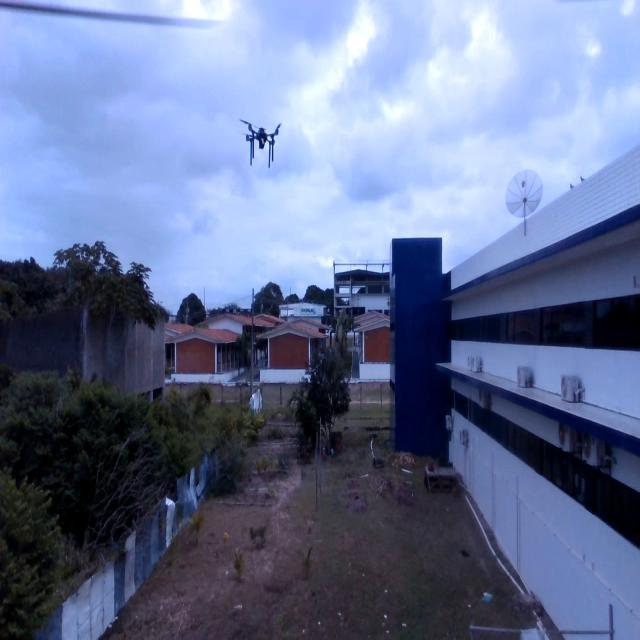-uav-: (232, 99, 292, 203)
